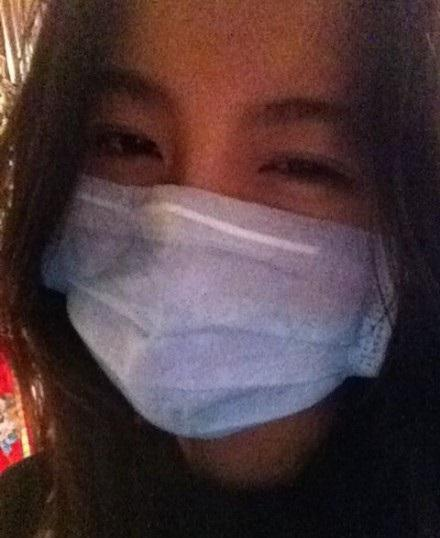OK: (45, 76, 394, 425)
